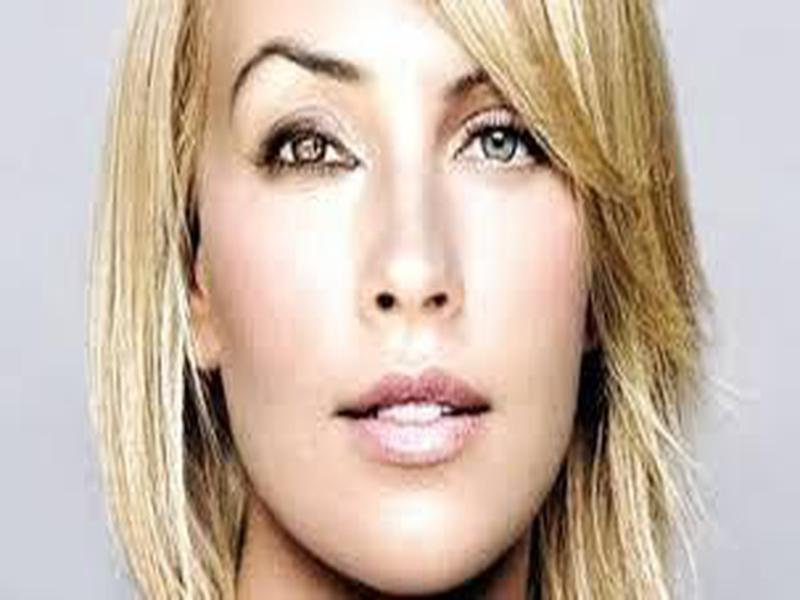without_mask: (178, 8, 616, 593)
